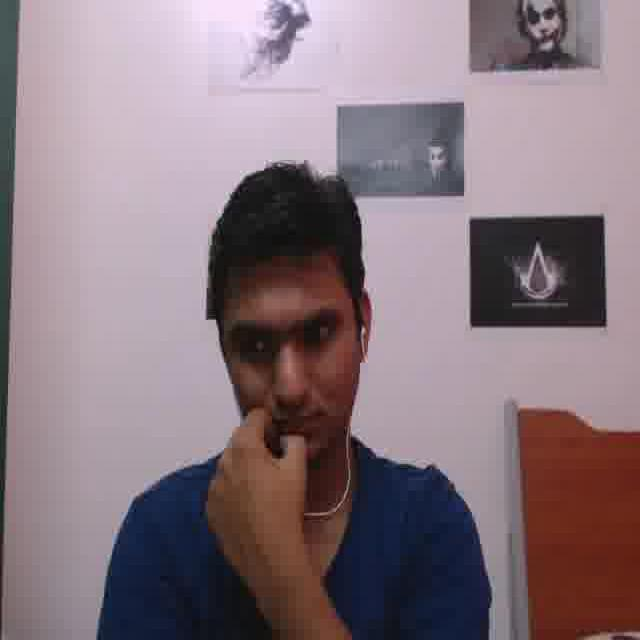Boredom: (222, 262, 355, 478)
